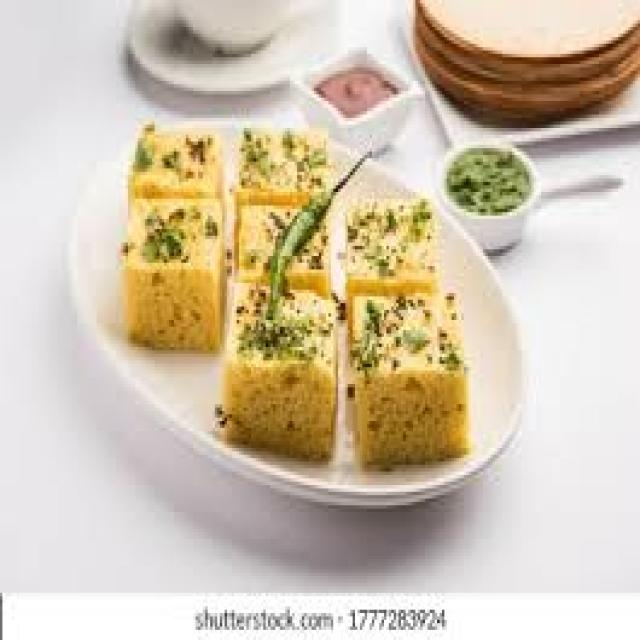DHOKLA: (348, 269, 478, 465), (222, 229, 333, 455), (121, 175, 222, 347), (319, 172, 442, 276), (239, 128, 328, 192), (133, 125, 217, 189)
